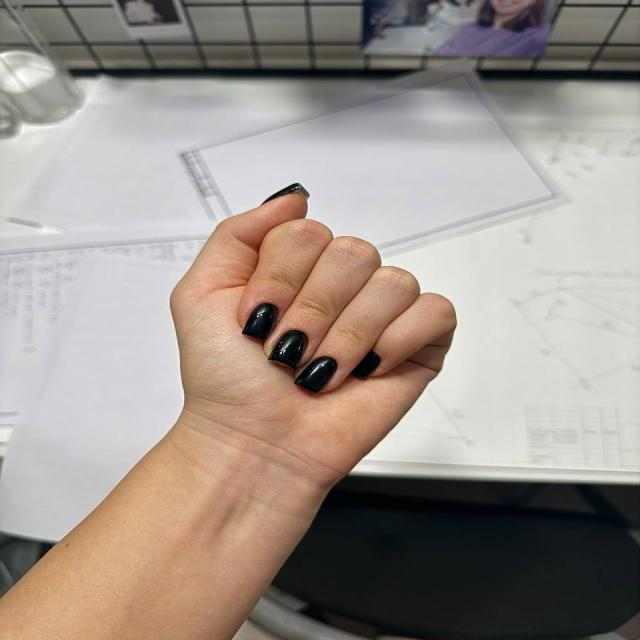a: (158, 175, 473, 468)
